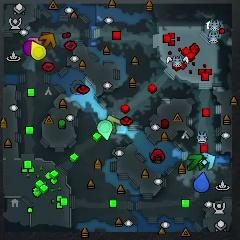p1: (194, 172, 211, 193)
p2: (96, 119, 112, 139)
p3: (23, 39, 34, 57)
p4: (31, 42, 47, 61)
x1: (27, 35, 42, 43)
x2: (106, 115, 121, 134)
x3: (201, 151, 217, 170)
x4: (186, 153, 204, 170)
x5: (40, 32, 57, 49)
